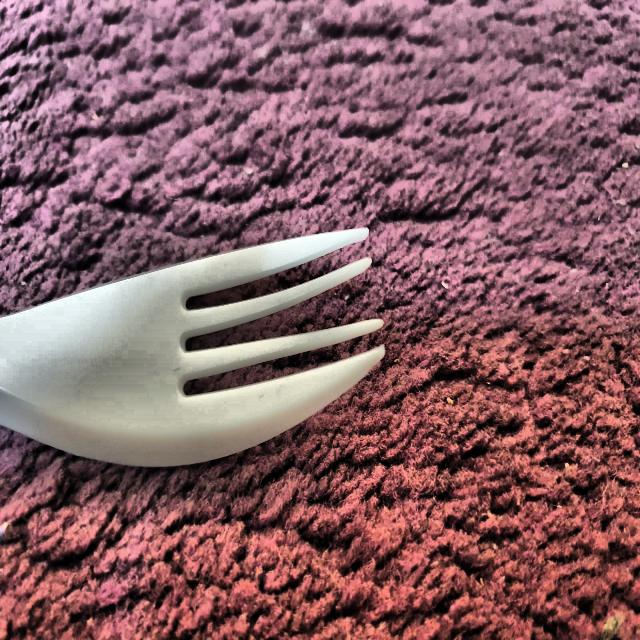plastic utensil: (0, 211, 391, 481)
